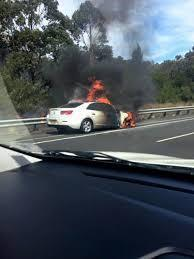fire: (81, 77, 141, 130)
